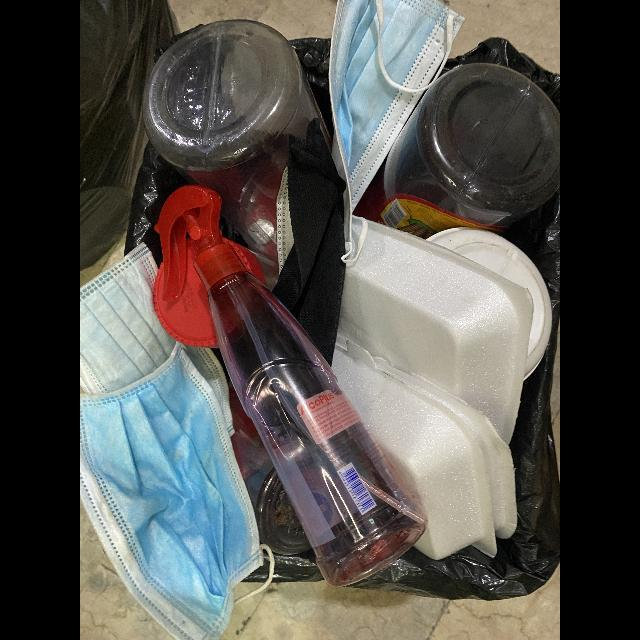plastic: (194, 245, 428, 588), (141, 18, 317, 291), (380, 63, 560, 240)
styrofoam: (335, 216, 533, 445), (331, 335, 519, 562)
